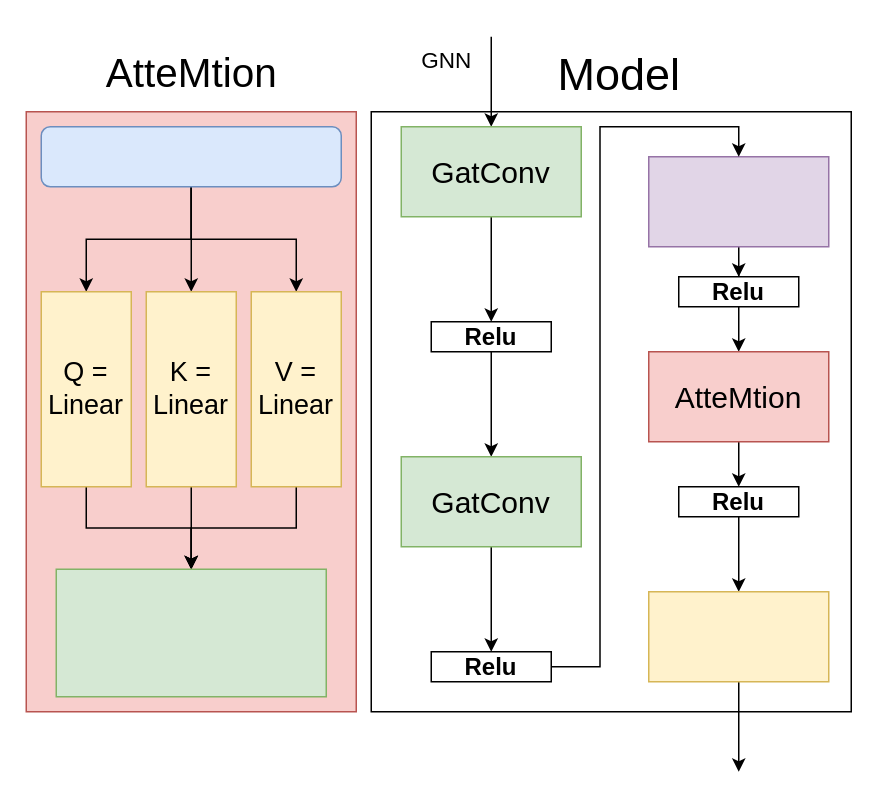
Some shapes in this 878 by 810 pixel diagram are drawn without their labels. The shapes that lost their labels are listed below. From the top down, each one's centre as x and y in pixels, then its label:
At (190,156): "INPUT".
At (738,201): "Global Mean Pooling".
At (190,632): "MultiHead Attention".
At (738,636): "Linear".
